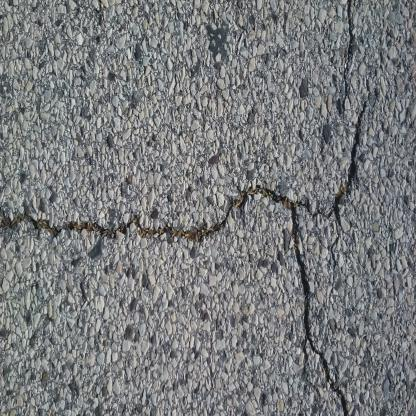Cracks: (0, 106, 366, 416)
